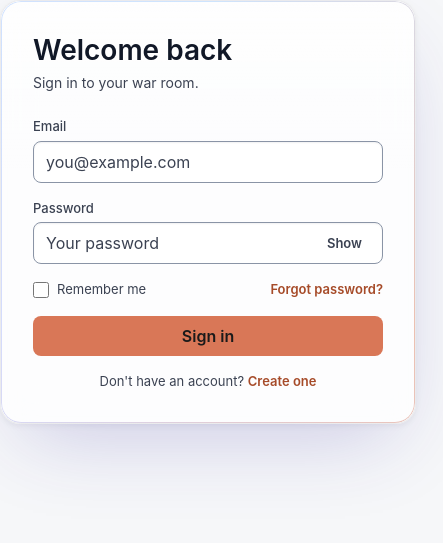
it: AuthForm › shows the server message on a failed sign-in and stays on the page
The image size is (443, 543).
Type "a@b.com" into the field labelled "Email".
click(208, 162); type("a@b.com")  # box left=33, top=140, right=383, bottom=182
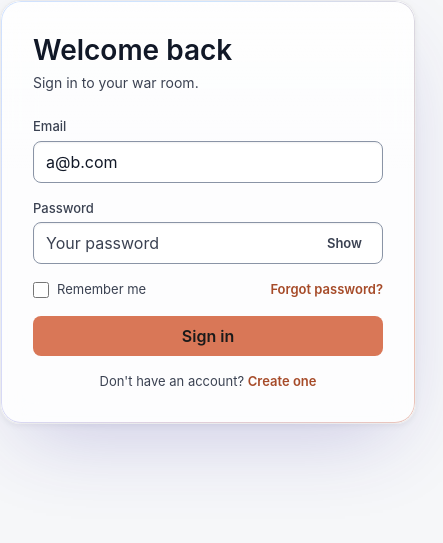
Type "wrongpass1" into the password field labelled "Password".
click(208, 243); type("wrongpass1")  # box left=33, top=222, right=383, bottom=264
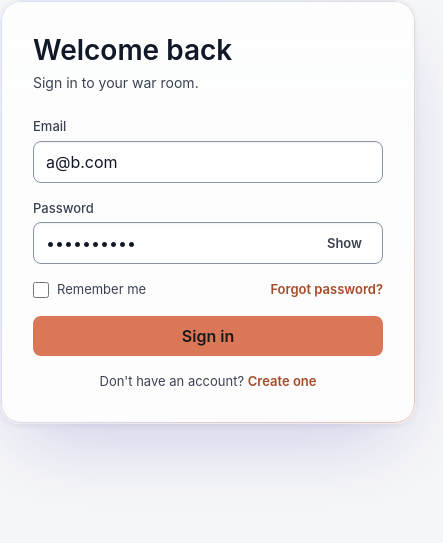
Click the button "Sign in".
click(208, 336)  # box left=33, top=316, right=383, bottom=356
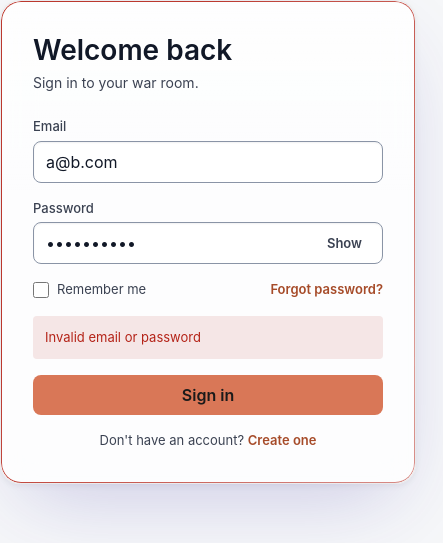
expect the message reads "Invalid email or password": met, box left=45, top=328, right=201, bottom=344
